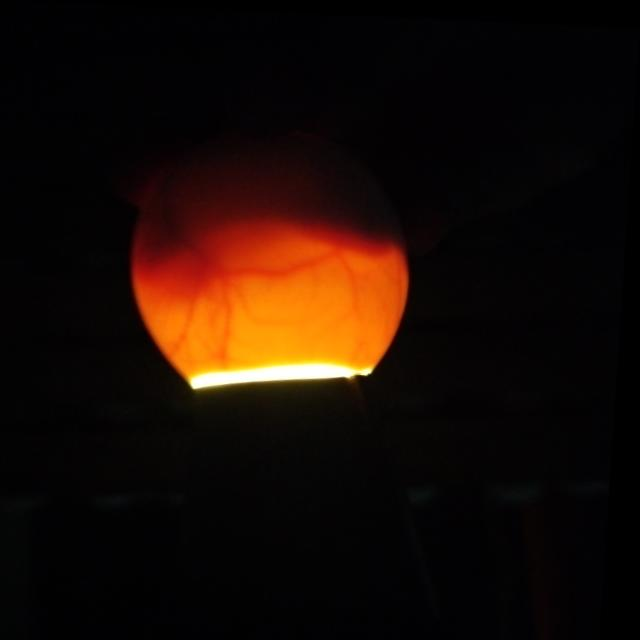Embriao: (140, 128, 409, 249)
